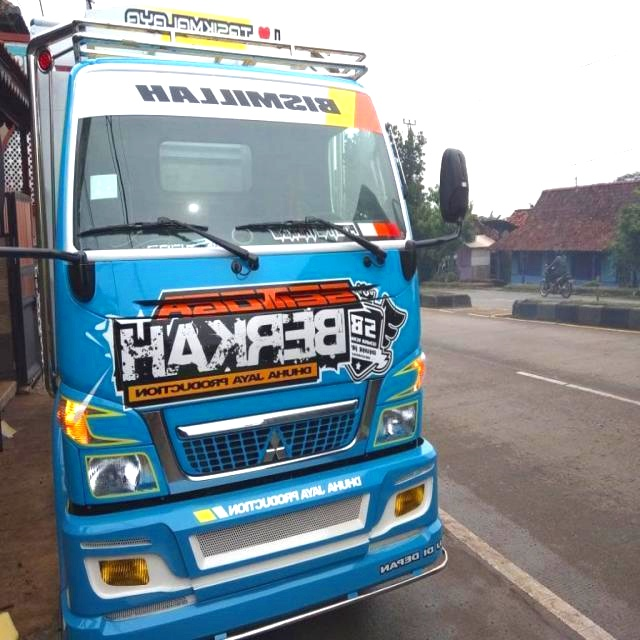truck: (11, 22, 481, 633)
